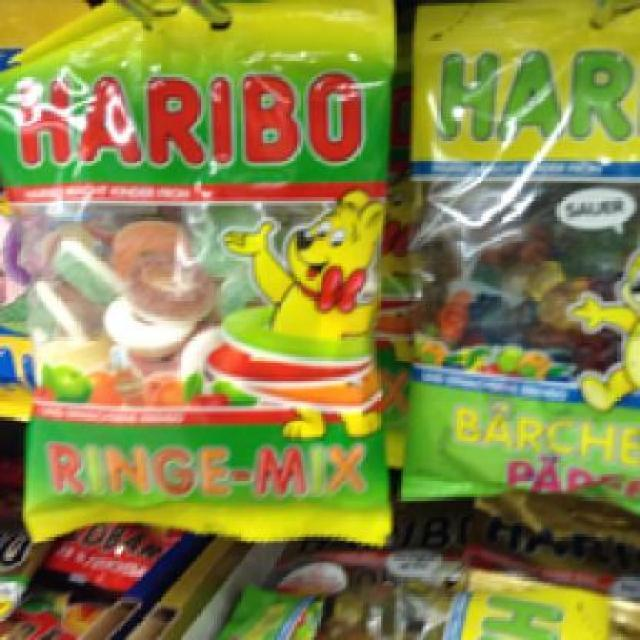Candy: (9, 2, 408, 552), (392, 0, 638, 506)
